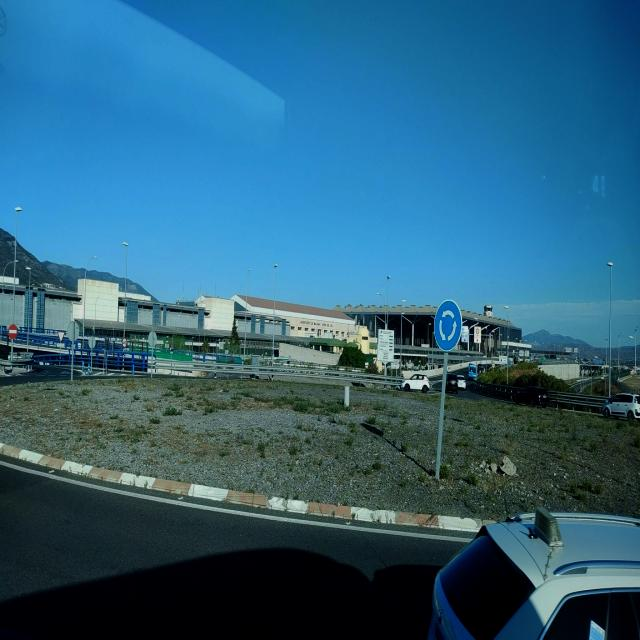car: (599, 392, 640, 422), (427, 372, 464, 394), (512, 385, 549, 406), (399, 372, 431, 392), (121, 349, 148, 370)
